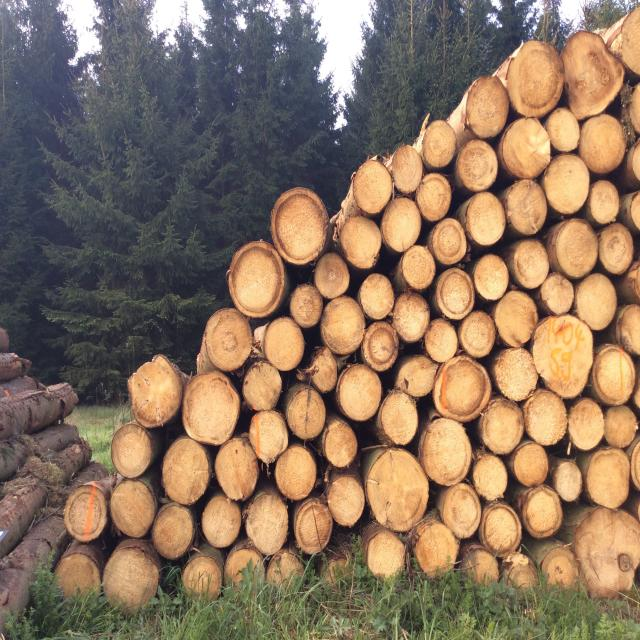wood-log: (572, 506, 638, 597), (365, 451, 430, 533), (560, 34, 620, 121), (530, 318, 593, 400), (505, 40, 562, 117), (272, 190, 330, 264), (226, 244, 283, 318), (182, 372, 239, 445), (128, 354, 184, 424), (417, 416, 472, 484), (433, 353, 488, 420), (106, 547, 162, 612), (161, 440, 209, 507), (204, 309, 253, 373), (498, 118, 550, 178), (549, 221, 599, 280), (543, 157, 592, 217), (584, 446, 630, 508), (216, 436, 260, 500), (110, 480, 159, 537), (579, 114, 626, 173), (246, 491, 290, 554), (413, 518, 458, 579), (591, 344, 636, 405), (321, 295, 366, 355), (336, 364, 383, 421), (495, 290, 541, 346), (478, 398, 524, 454), (468, 79, 510, 140), (64, 483, 108, 541), (110, 421, 153, 479), (493, 349, 540, 402), (523, 391, 568, 446), (282, 387, 327, 442), (352, 158, 396, 213), (575, 272, 618, 328), (505, 180, 548, 236), (439, 482, 481, 538), (153, 503, 195, 559), (274, 443, 316, 499), (53, 552, 102, 600), (380, 196, 422, 251), (376, 391, 418, 446), (340, 215, 382, 270), (456, 141, 499, 194), (293, 499, 331, 558), (434, 267, 476, 320), (250, 410, 290, 464), (466, 192, 506, 246), (200, 496, 241, 548), (327, 473, 367, 526), (264, 318, 303, 372), (184, 549, 225, 600), (360, 321, 399, 373), (522, 486, 561, 538), (482, 502, 520, 555), (510, 240, 550, 290), (367, 527, 406, 578), (391, 292, 430, 342), (598, 222, 635, 274), (242, 363, 282, 411), (542, 543, 580, 593), (568, 398, 604, 450), (461, 543, 501, 588), (474, 254, 511, 302), (323, 418, 359, 467), (460, 309, 497, 356), (472, 452, 508, 500), (432, 219, 468, 267), (416, 174, 452, 222), (422, 121, 458, 169), (391, 144, 426, 193), (512, 441, 550, 486), (314, 253, 351, 299), (358, 272, 395, 318), (270, 548, 306, 595), (402, 246, 437, 292), (617, 7, 640, 77), (538, 272, 574, 316), (588, 180, 622, 226), (424, 320, 459, 364), (290, 285, 324, 329), (604, 404, 638, 448), (546, 109, 580, 153), (402, 356, 437, 398), (310, 348, 339, 394), (553, 459, 582, 503), (617, 304, 640, 357), (621, 261, 640, 304), (628, 140, 640, 186), (630, 437, 640, 489), (628, 192, 640, 232), (631, 86, 640, 137), (630, 494, 640, 524), (632, 379, 640, 413)
